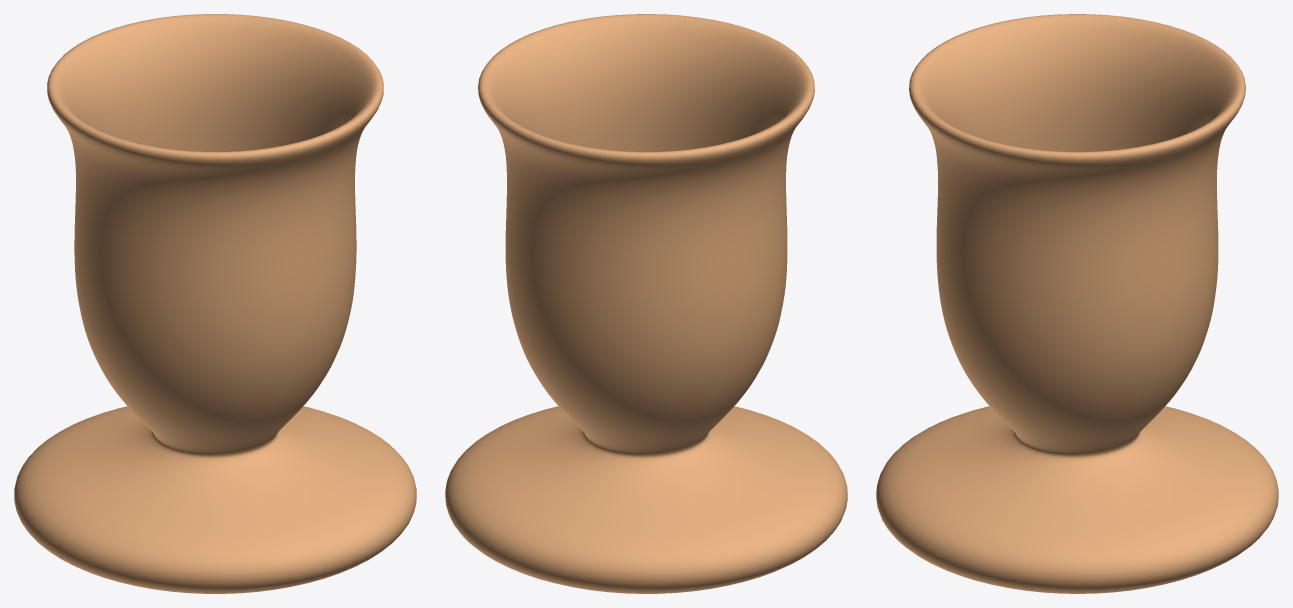
File: Gerro_4.fbx
3 renders of one model, left to right at view 1: azimuth 30°, elevation 25°; view 2: azimuth 150°, elevation 25°; view 3: azimuth 270°, elevation 25°, orthographic.
Visible parts, largest first — view 1: Gerro4; view 2: Gerro4; view 3: Gerro4.
Boxes of the visible parts, box(x1,y1,x2,y2) form: Gerro4: box(14, 14, 416, 593); Gerro4: box(445, 14, 847, 593); Gerro4: box(876, 14, 1278, 593).
Size of the model in its own units: 322 by 405 by 322.
